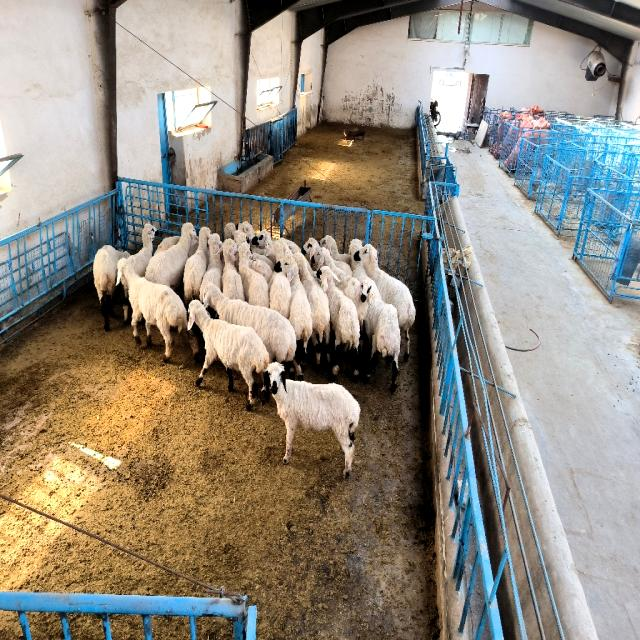sheep: (268, 362, 360, 476), (188, 300, 269, 409), (204, 283, 296, 362), (118, 260, 188, 361), (359, 243, 415, 358), (318, 267, 360, 378), (361, 278, 401, 391), (311, 247, 369, 324), (292, 253, 330, 369), (145, 223, 198, 289), (279, 255, 312, 352), (92, 245, 129, 331), (184, 227, 211, 306), (238, 242, 269, 308), (128, 223, 156, 277), (200, 233, 222, 301), (221, 238, 245, 300), (251, 230, 291, 262), (269, 272, 291, 318), (320, 235, 351, 265), (349, 238, 369, 280), (249, 260, 272, 283), (156, 235, 180, 254), (301, 238, 320, 262), (124, 285, 130, 322)
